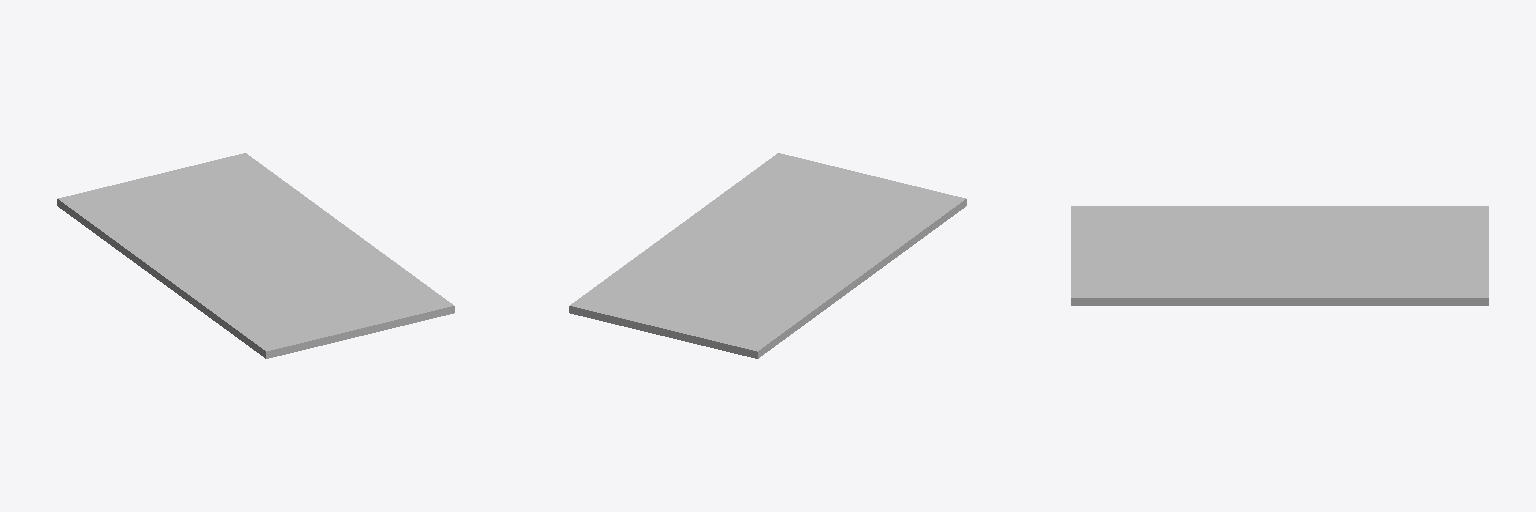
Rendered from StraightRoad.obj.
3 renders of one model, left to right at view 1: azimuth 30°, elevation 25°; view 2: azimuth 150°, elevation 25°; view 3: azimuth 270°, elevation 25°, orthographic.
Bounding box in the file's own units: 26 × 1 × 50.